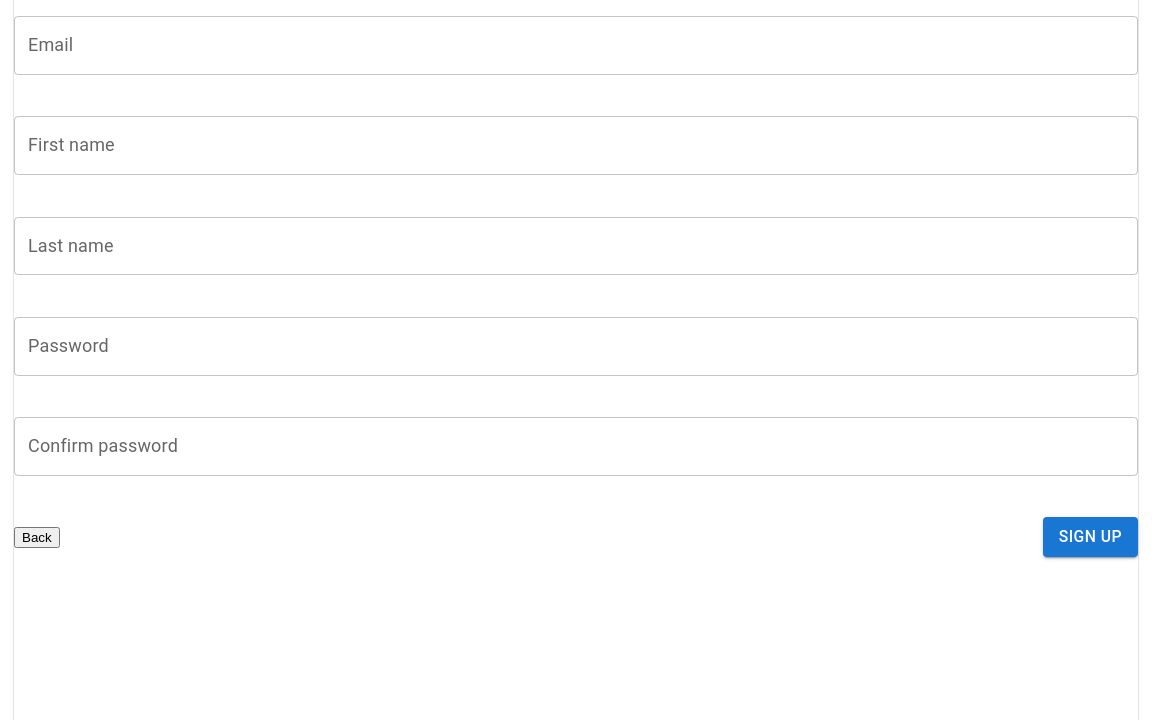
Test: SignupForm › shows an error when the confirm-password field does not match
The width and height of the screenshot is (1152, 720).
Type "jane@example.com" into the field labelled "Email".
click(576, 45); type("jane@example.com")  # box [14,16,1138,75]
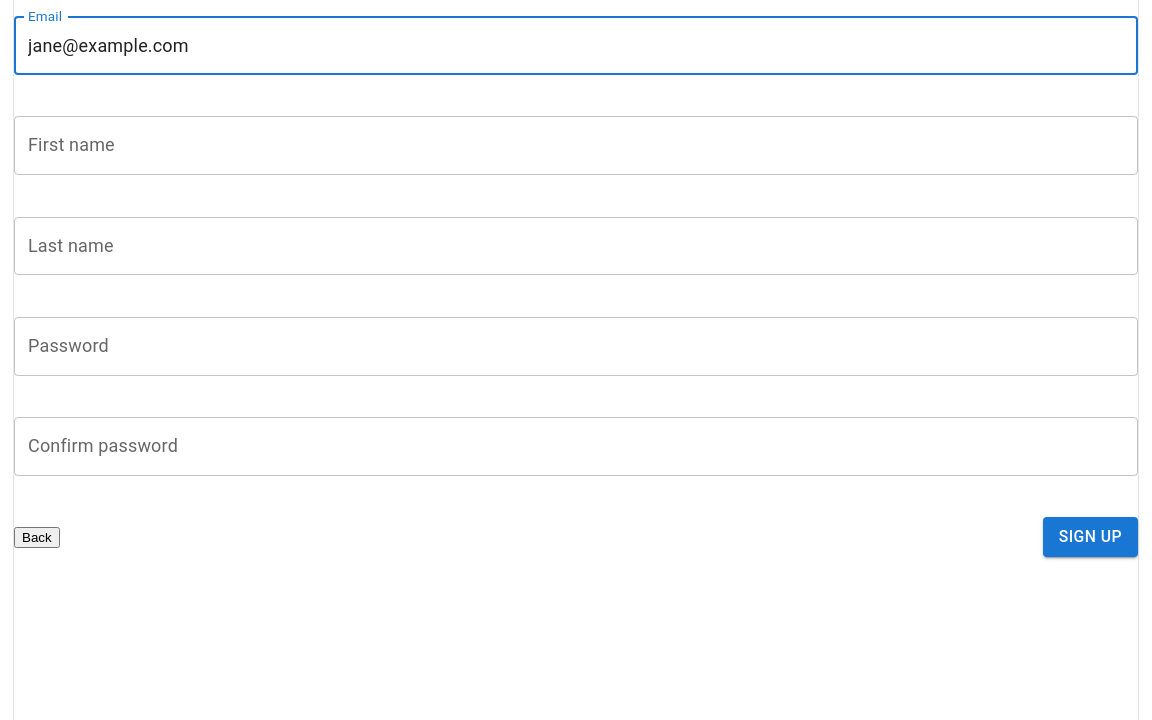
Type "Jane" into the field labelled "First name".
click(576, 146); type("Jane")  # box [14,116,1138,175]
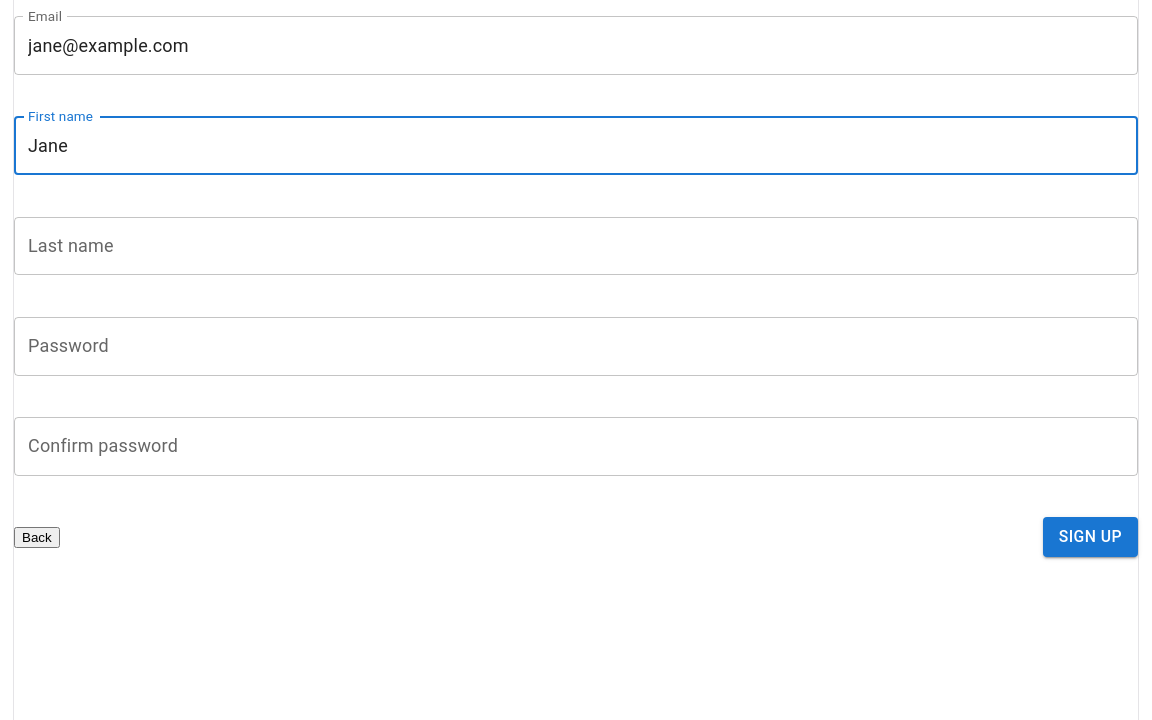
Type "Doe" into the field labelled "Last name".
click(576, 246); type("Doe")  # box [14,217,1138,276]
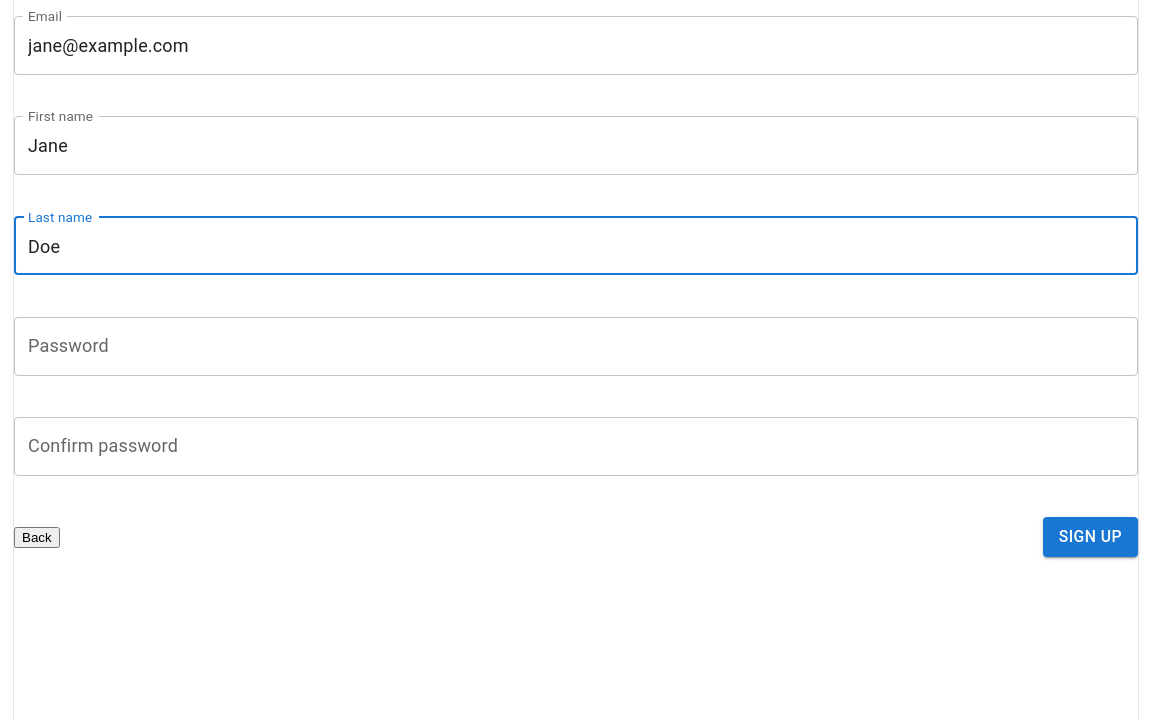
Type "secret123" into the password field labelled "Password".
click(576, 346); type("secret123")  # box [14,317,1138,376]
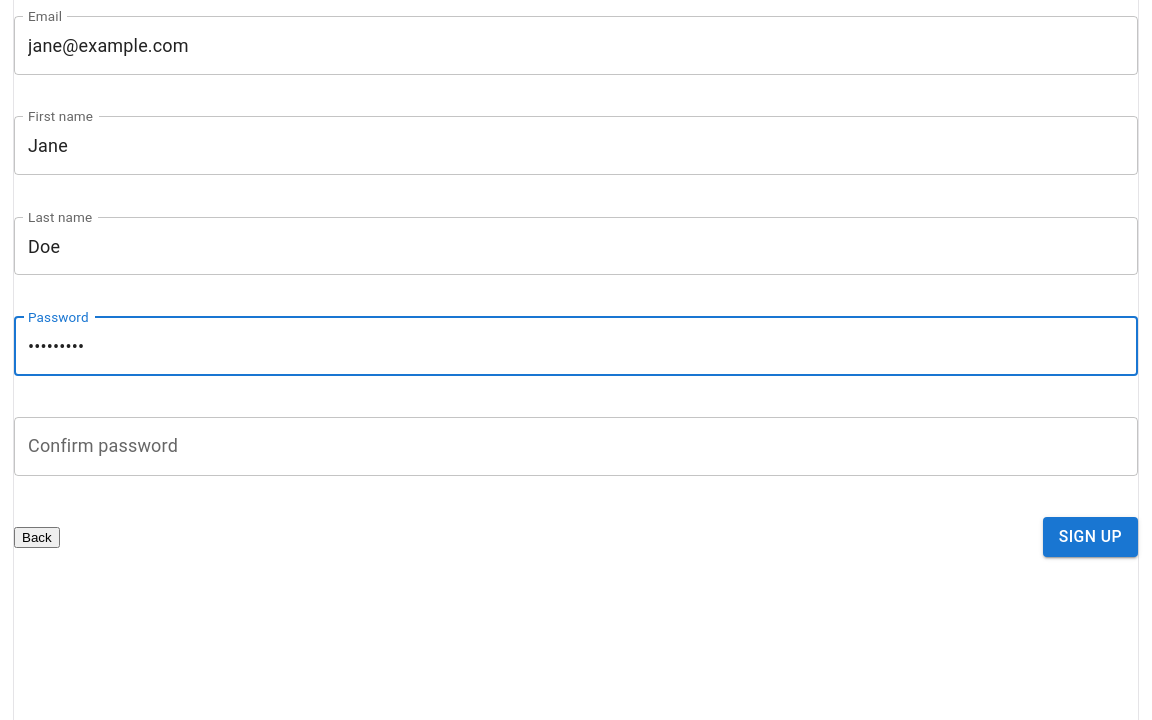
Type "mismatch" into the password field labelled "Confirm password".
click(576, 447); type("mismatch")  # box [14,417,1138,476]
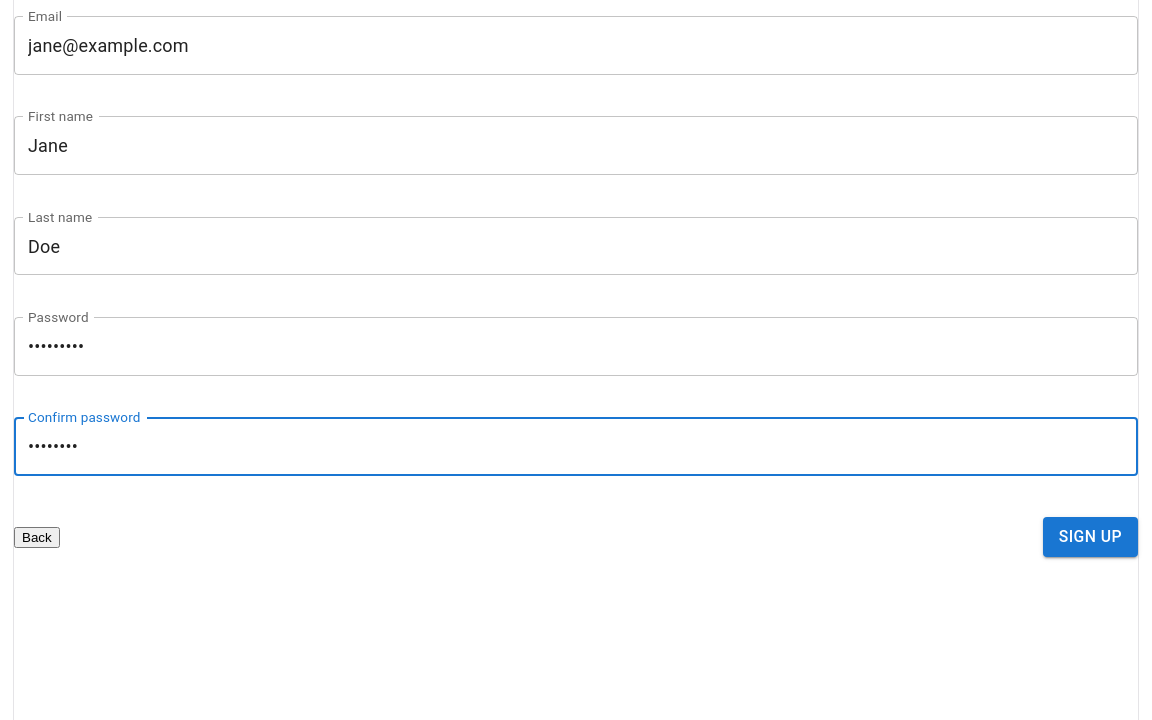
Click the button "Sign Up".
click(1090, 537)  # box [1043,517,1138,557]
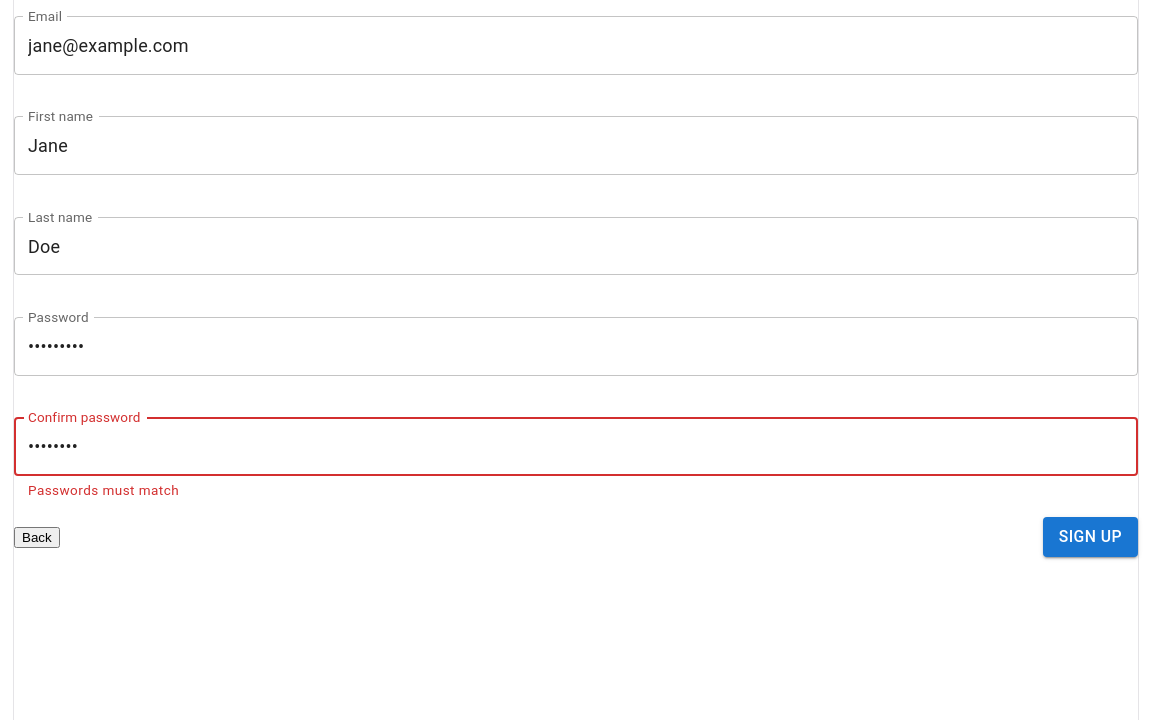
expect the text "Passwords must match" is shown: met, box [28,482,179,498]
